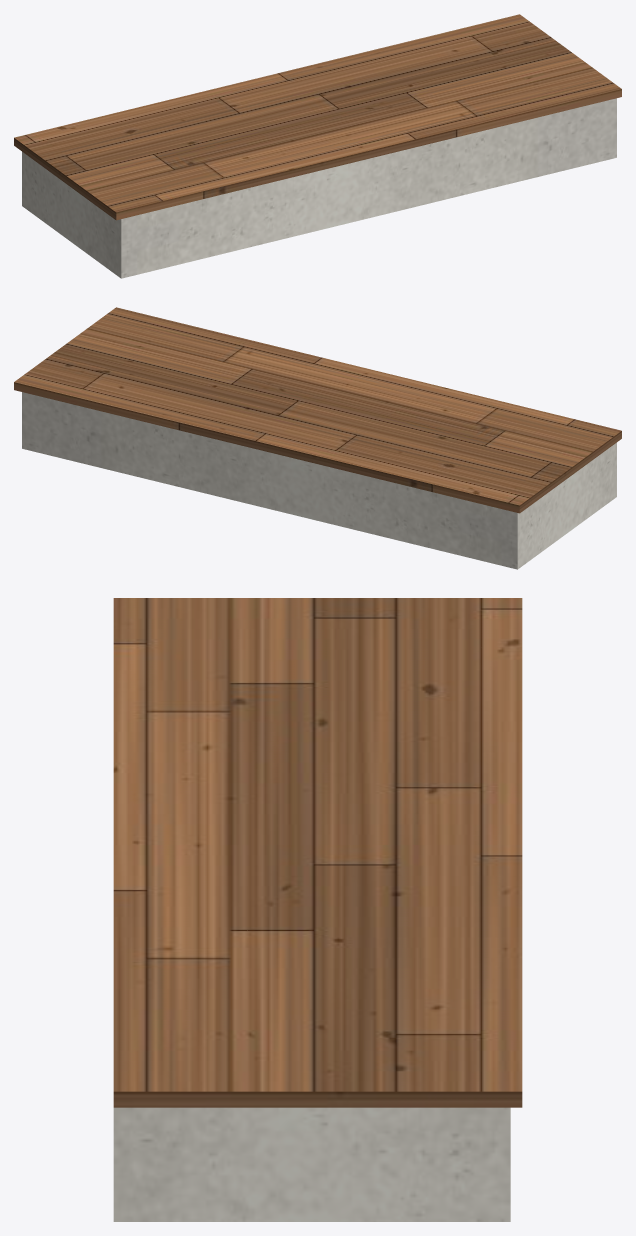
File: floor_floor_u_half_e0001.glb
3 renders of one model, top to bottom at view 1: azimuth 30°, elevation 25°; view 2: azimuth 150°, elevation 25°; view 3: azimuth 270°, elevation 25°, orthographic. The views are drawn at different scales.
Visible parts, largest first — view 1: floor_floor_u_half_e0001_floor, floor_floor_u_half_e0001_plaster; view 2: floor_floor_u_half_e0001_floor, floor_floor_u_half_e0001_plaster; view 3: floor_floor_u_half_e0001_floor, floor_floor_u_half_e0001_plaster.
Boxes of the visible parts, x1,y1,x2,y2 form: floor_floor_u_half_e0001_floor: (14, 14, 621, 220); floor_floor_u_half_e0001_plaster: (22, 98, 616, 278); floor_floor_u_half_e0001_floor: (14, 307, 621, 513); floor_floor_u_half_e0001_plaster: (22, 392, 616, 569); floor_floor_u_half_e0001_floor: (113, 598, 522, 1107); floor_floor_u_half_e0001_plaster: (113, 1107, 510, 1221).
Size of the model in its own units: 2 by 0.255 by 0.7.
2 materials, 2 textured.
